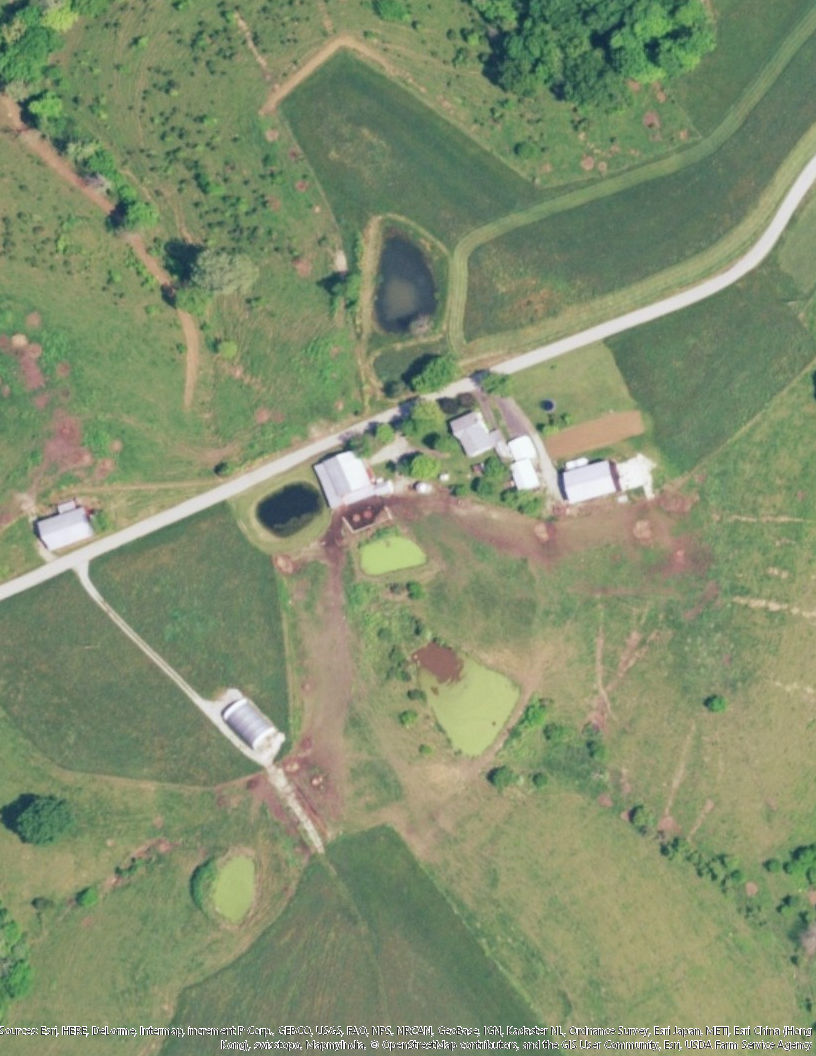cafo: (555, 456, 676, 511), (305, 440, 389, 513), (215, 689, 294, 752), (30, 501, 102, 559)
